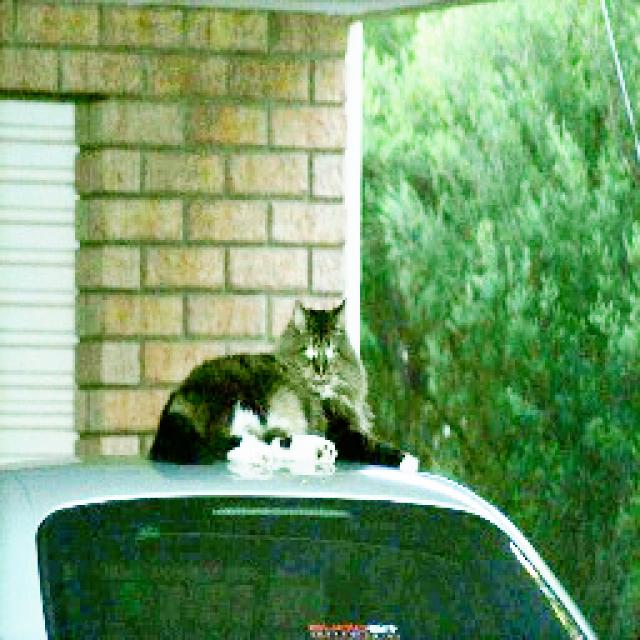cat: (148, 300, 425, 481)
